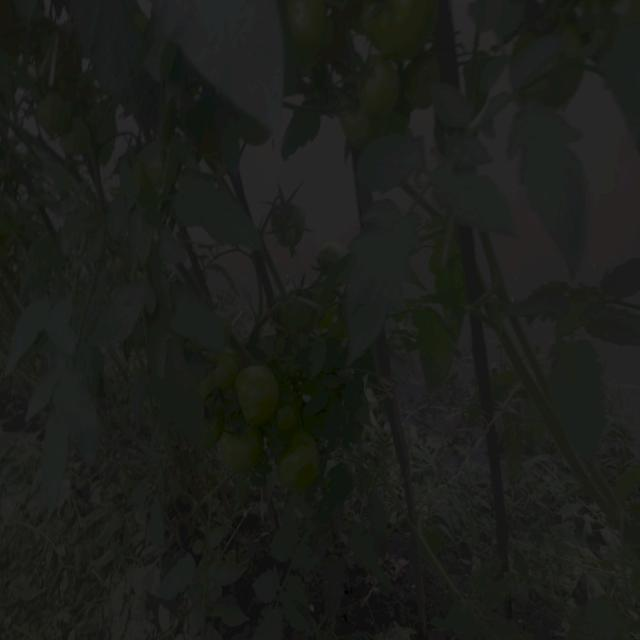tomato: (356, 1, 448, 60), (356, 56, 410, 124), (264, 201, 307, 259), (239, 363, 279, 423), (280, 452, 329, 497), (332, 106, 376, 151), (284, 1, 330, 43), (221, 424, 257, 469), (203, 373, 235, 423), (34, 95, 70, 136), (308, 236, 339, 273)
